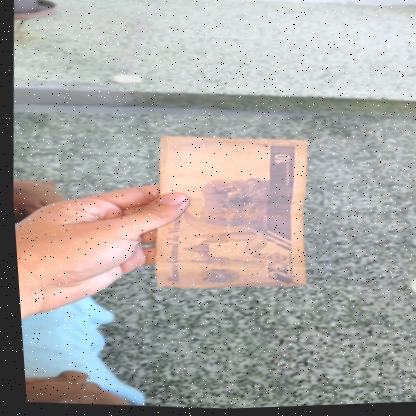ten-back-vef: (145, 132, 313, 293)
